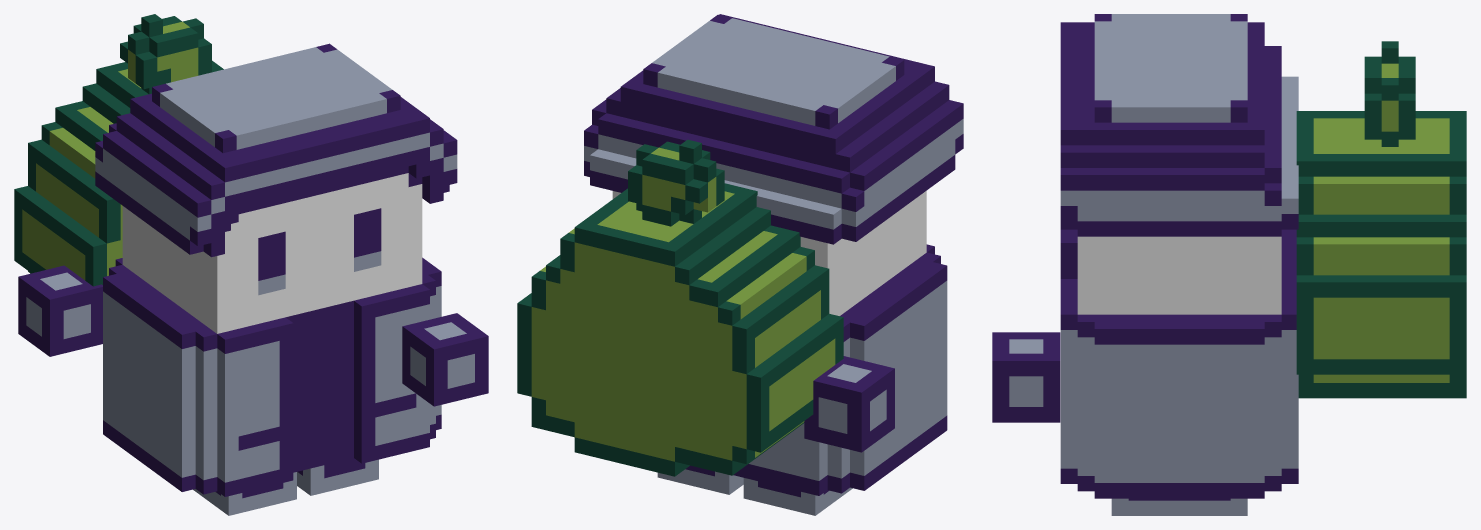
File: p3SegGrab.gltf
The picture shows the model from 3 angles, left to right: view 1: azimuth 30°, elevation 25°; view 2: azimuth 150°, elevation 25°; view 3: azimuth 270°, elevation 25°; orthographic projection. The views are drawn at different scales.
Parts seen in each view (by area): view 1: Object_0.001, Object_0.004, Object_0, Object_0.003; view 2: Object_0.001, Object_0.004, Object_0.003; view 3: Object_0.001, Object_0.004, Object_0.
Boxes of the visible parts, x1=… form: Object_0.001: x1=95, y1=43, x2=457, y2=515; Object_0.004: x1=14, y1=14, x2=223, y2=286; Object_0: x1=402, y1=313, x2=488, y2=406; Object_0.003: x1=18, y1=265, x2=102, y2=356; Object_0.001: x1=584, y1=14, x2=963, y2=515; Object_0.004: x1=517, y1=139, x2=843, y2=476; Object_0.003: x1=804, y1=356, x2=894, y2=452; Object_0.001: x1=1060, y1=14, x2=1298, y2=515; Object_0.004: x1=1296, y1=41, x2=1466, y2=398; Object_0: x1=992, y1=332, x2=1060, y2=422.
Bounding box in the file's own units: 2.2 × 2.73 × 2.79.
Materials: 4 (4 with a texture image).
